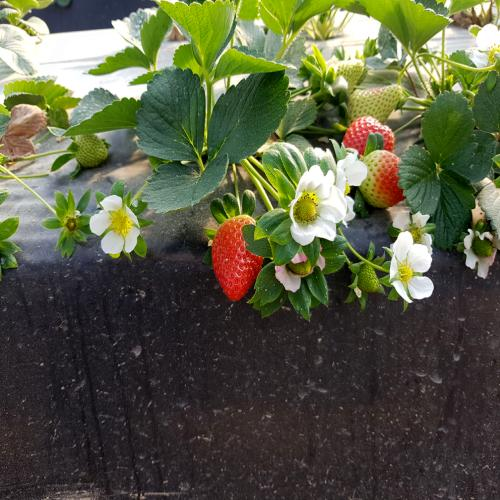ripe: (212, 206, 266, 305)
